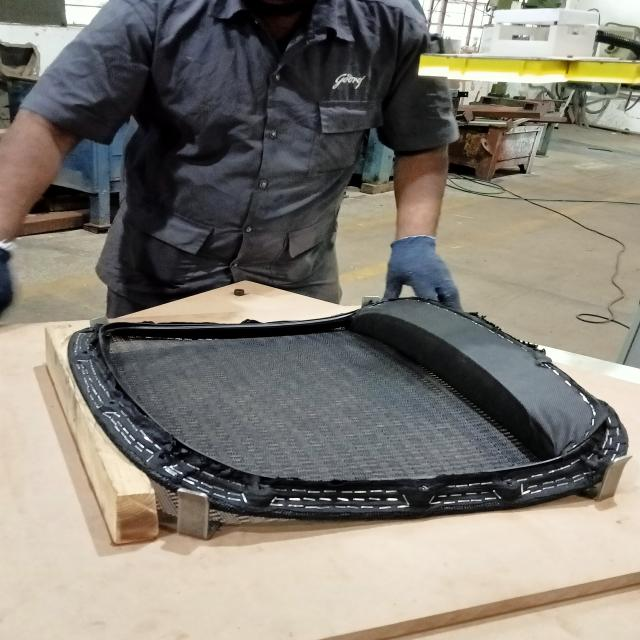Gloves-Detection: (358, 231, 465, 310)
